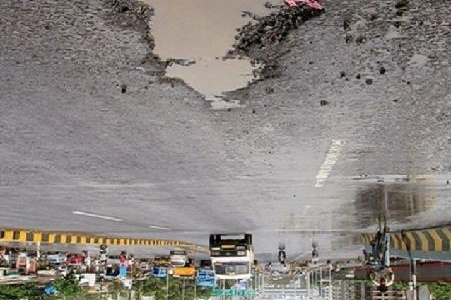pothole: (102, 0, 327, 104)
